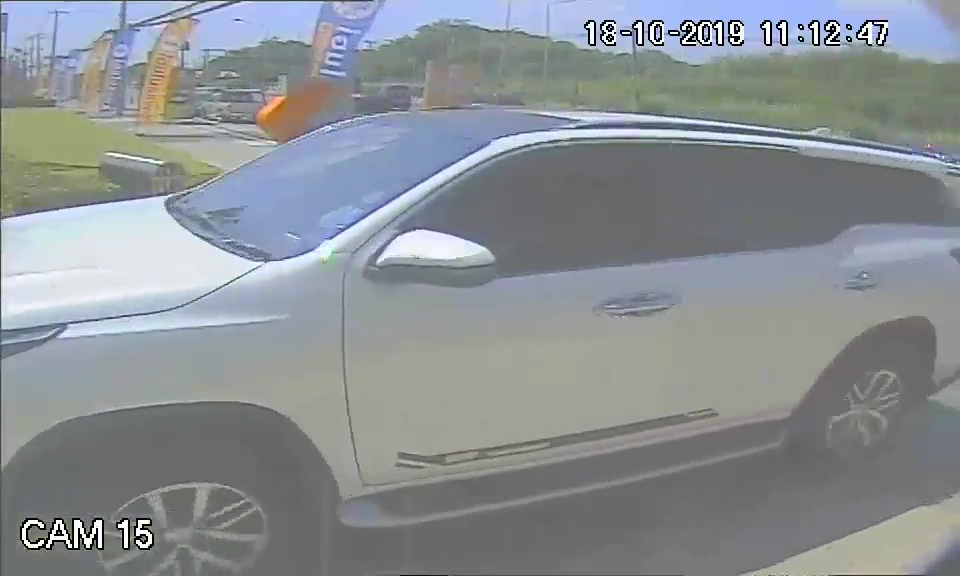pickup: (6, 99, 959, 513)
